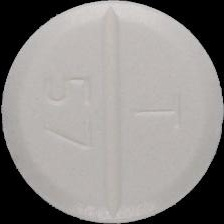33261-739: (0, 0, 224, 224)
